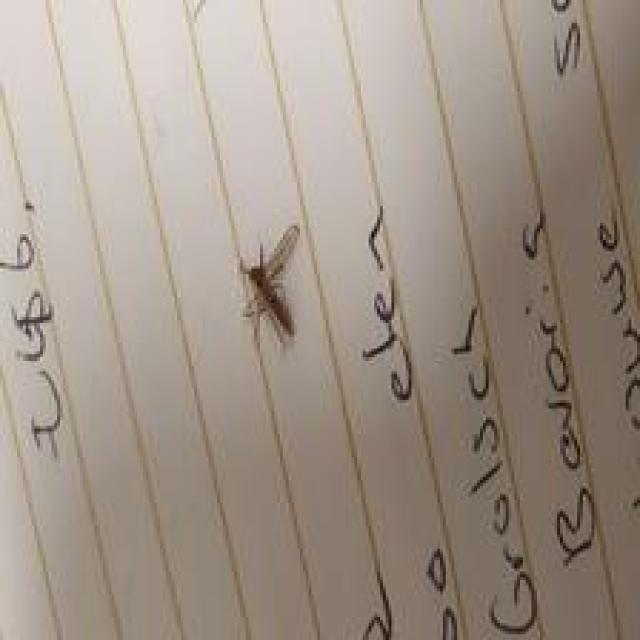Culex: (238, 223, 302, 343)
